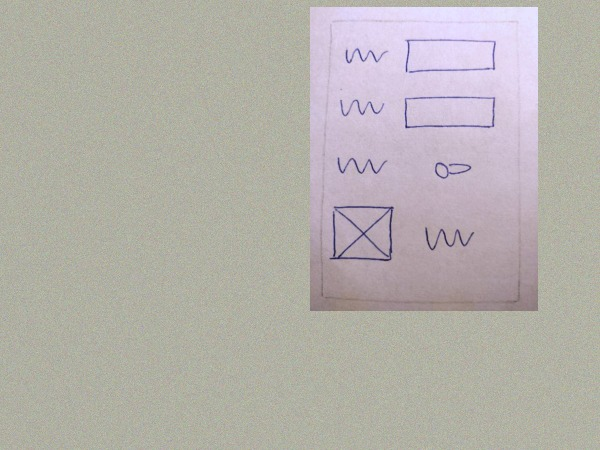image: (328, 203, 400, 267)
switch: (427, 158, 479, 181)
text: (417, 221, 481, 256), (335, 95, 390, 123), (333, 153, 392, 178), (340, 46, 390, 66)
text_input: (399, 34, 501, 77), (400, 93, 502, 134)
